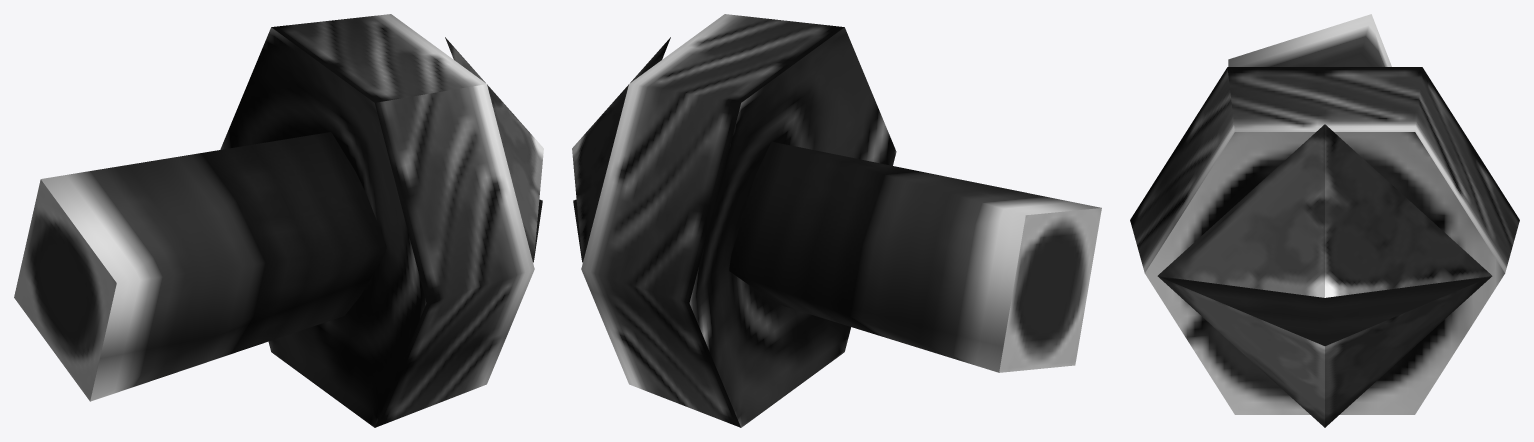
Rendered from model_bolt.glb.
3 views of the same model, side by side, from view 1: azimuth 30°, elevation 25°; view 2: azimuth 150°, elevation 25°; view 3: azimuth 270°, elevation 25° (orthographic). The views are drawn at different scales.
Visible parts, largest first — view 1: parts.model_bolt-Mesh[0]; view 2: parts.model_bolt-Mesh[0]; view 3: parts.model_bolt-Mesh[0].
Boxes of the visible parts, <box> form: parts.model_bolt-Mesh[0]: <box>14,14,543,427</box>; parts.model_bolt-Mesh[0]: <box>572,14,1101,427</box>; parts.model_bolt-Mesh[0]: <box>1130,14,1519,427</box>.
Size of the model in its own units: 0.6427 by 0.4172 by 0.4817.
Materials: 1 (1 with a texture image).
